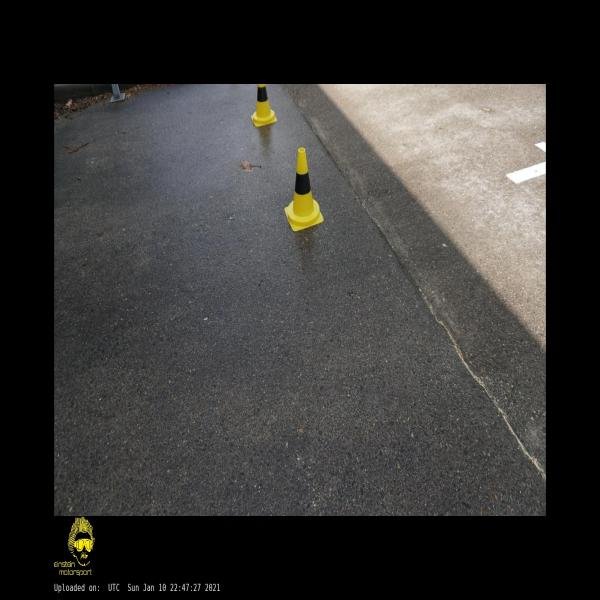yellow_cone: (284, 147, 324, 232), (251, 84, 277, 127)
